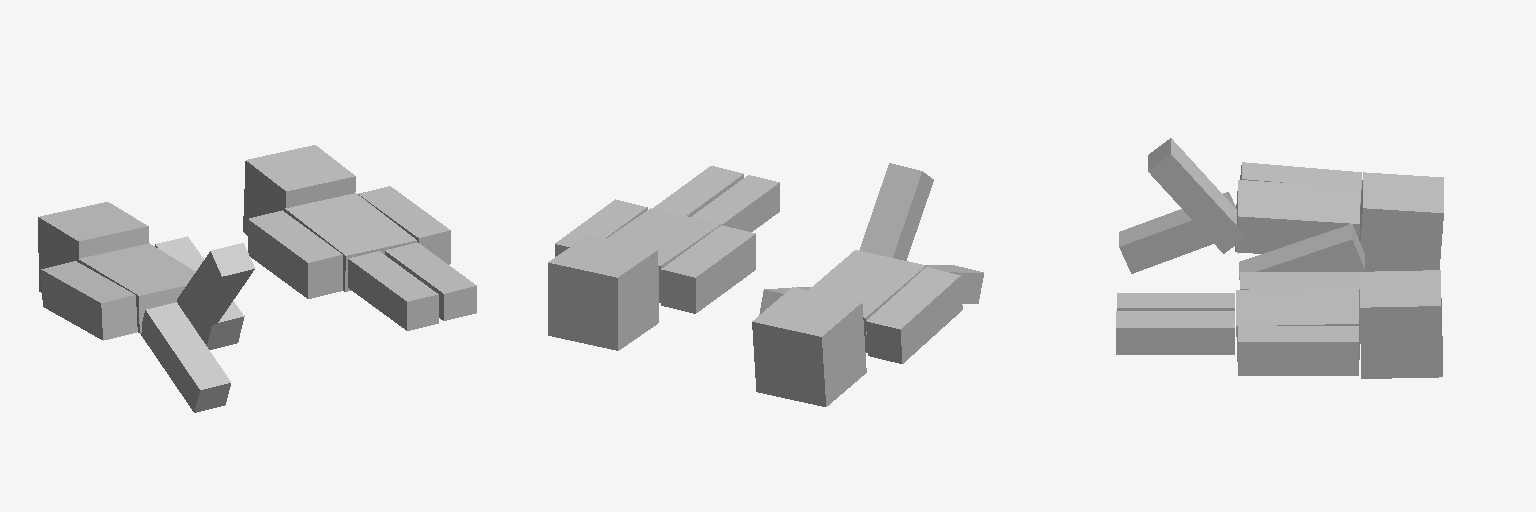
The model's file is steve_000036.obj.
3 renders of one model, left to right at view 1: azimuth 30°, elevation 25°; view 2: azimuth 150°, elevation 25°; view 3: azimuth 270°, elevation 25°, orthographic.
Visible parts, largest first — view 1: Cube.001_Cube.002, Cube_Cube.001; view 2: Cube.001_Cube.002, Cube_Cube.001; view 3: Cube.001_Cube.002, Cube_Cube.001.
Part boxes in pixels (bbox=[...]): Cube.001_Cube.002: bbox=[243, 145, 476, 330]; Cube_Cube.001: bbox=[38, 202, 254, 412]; Cube.001_Cube.002: bbox=[548, 166, 779, 350]; Cube_Cube.001: bbox=[752, 163, 983, 406]; Cube.001_Cube.002: bbox=[1116, 270, 1442, 378]; Cube_Cube.001: bbox=[1119, 138, 1443, 279].
Size of the model in its own units: 6.55 by 2.5 by 5.36.